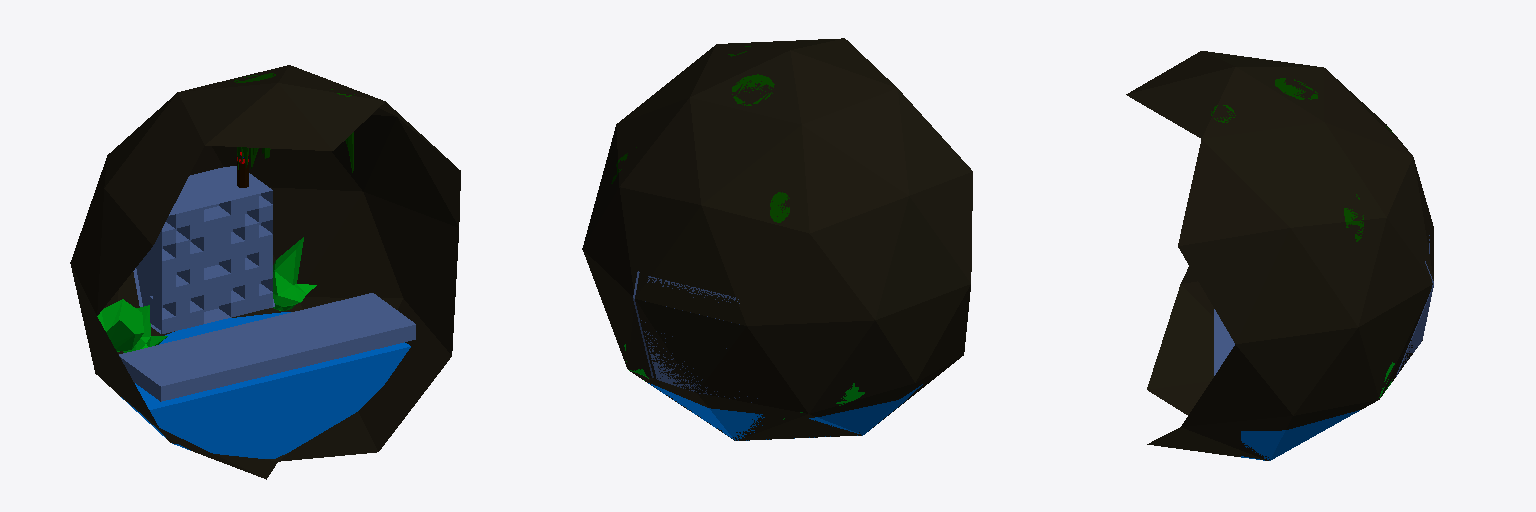
The model's file is dusk_6.obj.
The picture shows the model from 3 angles: view 1: azimuth 30°, elevation 25°; view 2: azimuth 150°, elevation 25°; view 3: azimuth 270°, elevation 25°; orthographic projection.
Parts seen in each view (by area): view 1: Icosphere, Cube.001_Cube, Water_Cube.003, Cube_Cube.001, Icosphere.005, Icosphere.006, Icosphere.004; view 2: Icosphere, Water_Cube.003, Cube.001_Cube; view 3: Icosphere, Water_Cube.003, Cube_Cube.001, Cube.001_Cube.
Boxes of the visible parts, box(x1,y1,x2,y2) form: Icosphere: box(70, 65, 460, 479); Cube.001_Cube: box(133, 166, 274, 333); Water_Cube.003: box(121, 312, 410, 458); Cube_Cube.001: box(119, 293, 415, 401); Icosphere.005: box(273, 237, 316, 310); Icosphere.006: box(97, 299, 143, 351); Icosphere.004: box(123, 305, 167, 352); Icosphere: box(582, 38, 972, 440); Water_Cube.003: box(648, 383, 922, 440); Cube.001_Cube: box(633, 271, 757, 402); Icosphere: box(1126, 51, 1433, 460); Water_Cube.003: box(1241, 410, 1359, 460); Cube_Cube.001: box(1214, 309, 1234, 375); Cube.001_Cube: box(1396, 235, 1433, 376).
Size of the model in its own units: 9.63 by 9.63 by 7.11.